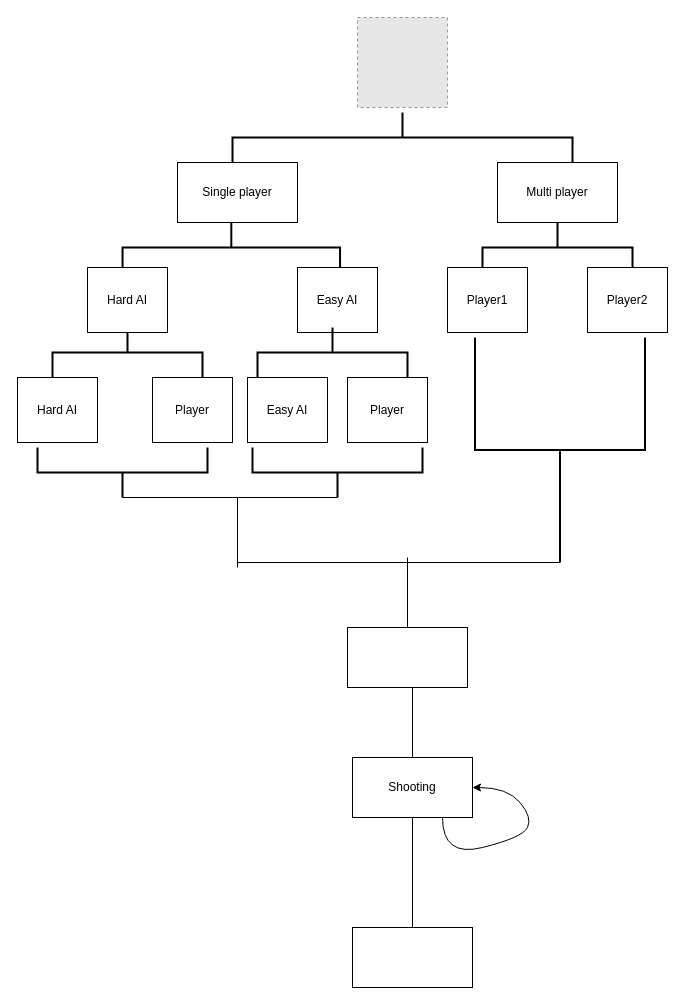
Image size: 685x1005. Some labels were removed from this diagram. Grey dashed boxes stand in for pictures. The centre of each missing label's shape, as x and y in pixels:
"Declare Win" belongs at pixel 412 957.
"Setting up ships" belongs at pixel 407 657.
